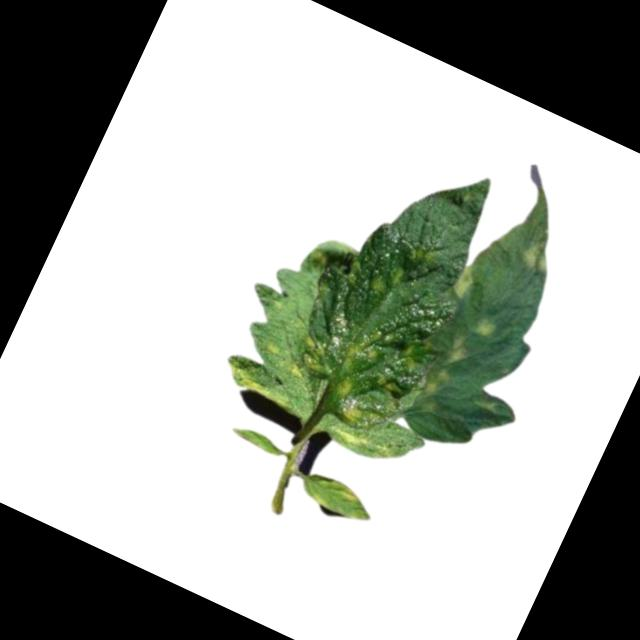Leaf_Mold: (295, 307, 386, 395), (419, 333, 476, 409), (224, 354, 296, 412), (334, 380, 383, 428), (518, 229, 563, 279), (447, 258, 488, 305), (475, 317, 501, 341)
